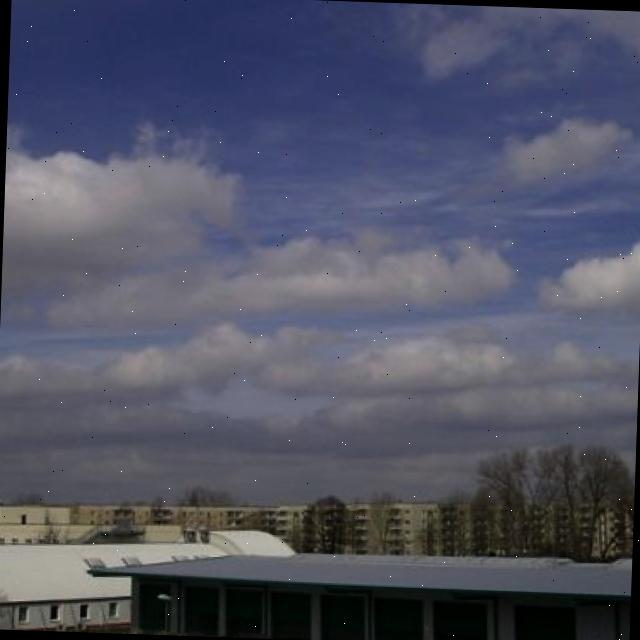Cu: (1, 90, 640, 431)
